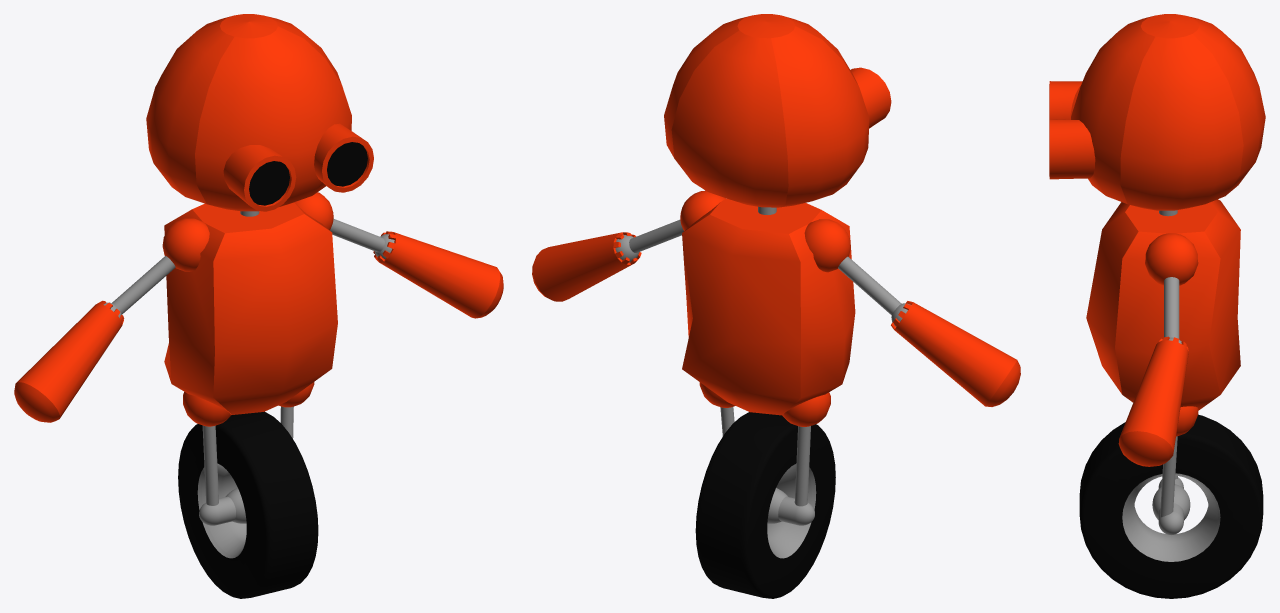
File: test_robot.FBX
3 renders of one model, left to right at view 1: azimuth 30°, elevation 25°; view 2: azimuth 150°, elevation 25°; view 3: azimuth 270°, elevation 25°, orthographic.
Visible parts, largest first — view 1: Cylinder001; view 2: Cylinder001; view 3: Cylinder001.
Part boxes in pixels (left/top/right/bottom): Cylinder001: left=14, top=14, right=503, bottom=598; Cylinder001: left=532, top=14, right=1020, bottom=598; Cylinder001: left=1049, top=14, right=1265, bottom=598.
Bounding box in the file's own units: 1027 × 1155 × 400.
